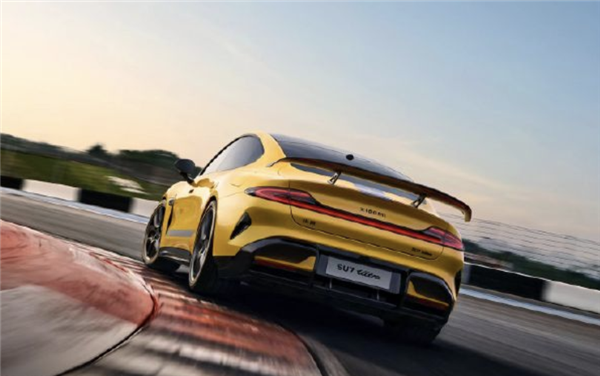su7: (136, 126, 465, 344)
